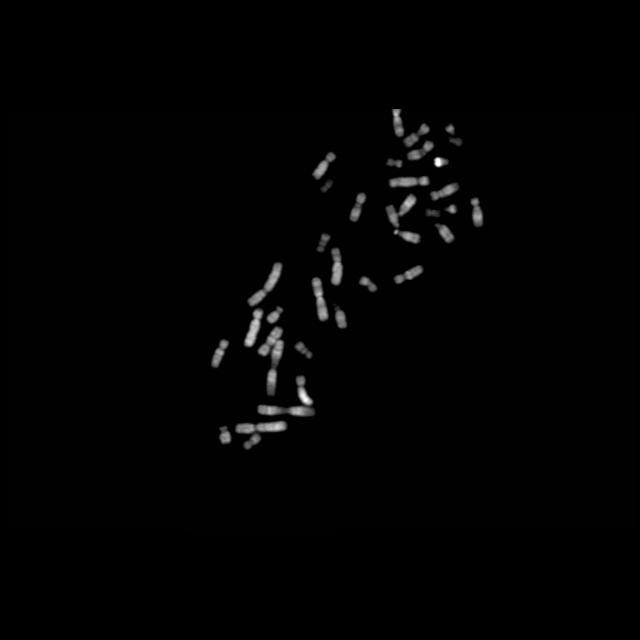chromosome: (246, 262, 282, 306), (266, 340, 284, 394), (257, 324, 283, 356), (310, 276, 328, 322), (243, 308, 263, 346), (235, 420, 287, 434), (313, 150, 337, 180), (256, 405, 316, 417), (402, 122, 430, 146), (293, 374, 313, 406), (406, 140, 434, 162), (394, 264, 424, 284), (210, 338, 228, 368), (328, 248, 342, 286), (431, 182, 459, 200), (392, 228, 420, 246), (432, 222, 454, 244), (390, 176, 430, 188), (470, 196, 484, 228), (396, 194, 416, 216), (350, 192, 364, 222), (294, 340, 314, 360), (331, 306, 347, 330), (265, 304, 283, 324), (358, 276, 377, 294), (315, 233, 331, 253), (392, 108, 403, 136), (386, 205, 399, 228), (243, 434, 262, 448), (384, 157, 404, 169), (219, 426, 231, 444), (443, 203, 459, 215), (434, 156, 450, 168), (321, 179, 333, 193), (445, 124, 457, 136), (424, 208, 440, 216)
